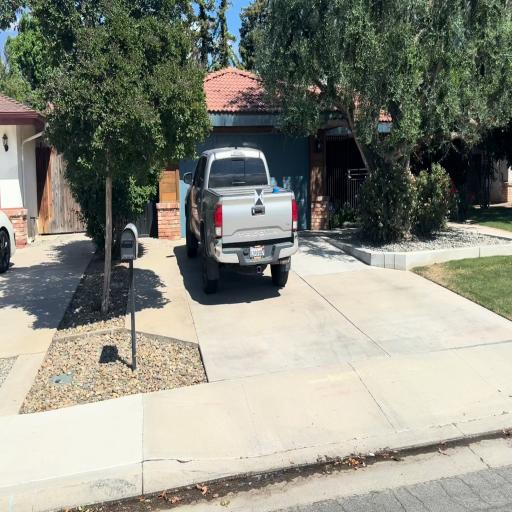target1: (254, 188, 264, 206)
